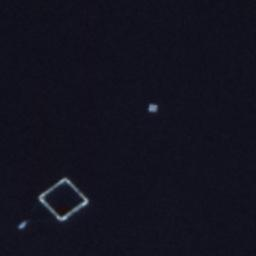square_solid: (34, 174, 93, 225)
